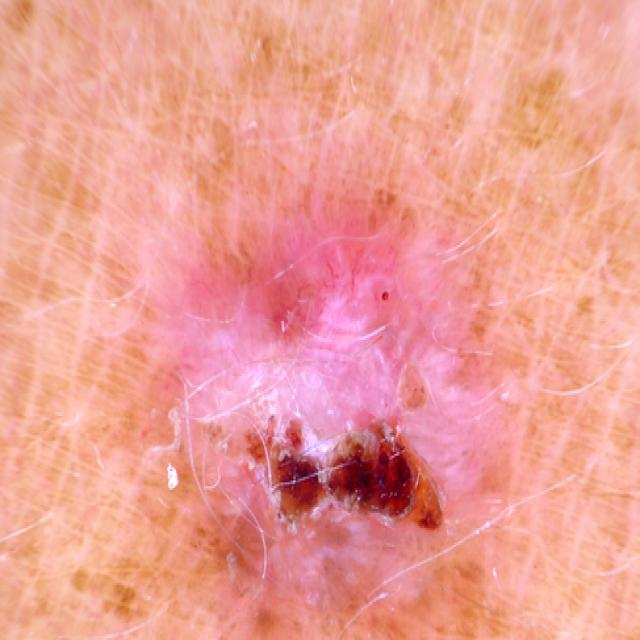Carcinoma: (124, 190, 529, 640)
